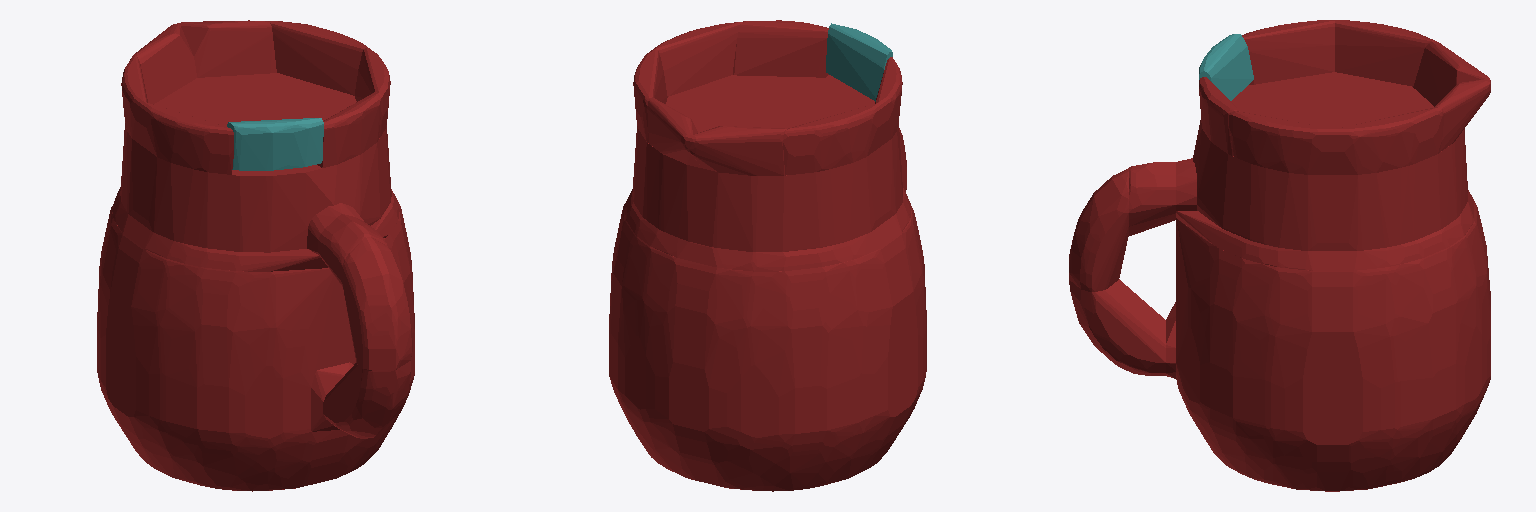
The robot description file, URDF, robot "root":
<robot name="root">
  <link name="bottle_body">
    <inertial>
      <origin xyz="0 0 0" rpy="0 0 0"/>
    </inertial>
    <mass value="1.00E-02"/>
    <visual>
      <origin xyz="0 0 0" rpy="0 0 0"/>
      <geometry>
        <mesh filename="core-bottle-f03f9704001d2055ab8a56962d772d13-coacd_convex_piece_4.obj" scale="1.0000E-01 1.0000E-01 1.0000E-01"/>
      </geometry>
      <material name="">
        <color rgba="6.00E-01 2.00E-01 2.00E-01 1"/>
      </material>
    </visual>
    <collision>
      <origin xyz="0 0 0" rpy="0 0 0"/>
      <geometry>
        <mesh filename="core-bottle-f03f9704001d2055ab8a56962d772d13-coacd_convex_piece_4.obj" scale="1.0000E-01 1.0000E-01 1.0000E-01"/>
      </geometry>
    </collision>
    <visual>
      <origin xyz="0 0 0" rpy="0 0 0"/>
      <geometry>
        <mesh filename="core-bottle-f03f9704001d2055ab8a56962d772d13-coacd_convex_piece_6.obj" scale="1.0000E-01 1.0000E-01 1.0000E-01"/>
      </geometry>
      <material name="">
        <color rgba="6.00E-01 2.00E-01 2.00E-01 1"/>
      </material>
    </visual>
    <collision>
      <origin xyz="0 0 0" rpy="0 0 0"/>
      <geometry>
        <mesh filename="core-bottle-f03f9704001d2055ab8a56962d772d13-coacd_convex_piece_6.obj" scale="1.0000E-01 1.0000E-01 1.0000E-01"/>
      </geometry>
    </collision>
    <visual>
      <origin xyz="0 0 0" rpy="0 0 0"/>
      <geometry>
        <mesh filename="core-bottle-f03f9704001d2055ab8a56962d772d13-coacd_convex_piece_11.obj" scale="1.0000E-01 1.0000E-01 1.0000E-01"/>
      </geometry>
      <material name="">
        <color rgba="6.00E-01 2.00E-01 2.00E-01 1"/>
      </material>
    </visual>
    <collision>
      <origin xyz="0 0 0" rpy="0 0 0"/>
      <geometry>
        <mesh filename="core-bottle-f03f9704001d2055ab8a56962d772d13-coacd_convex_piece_11.obj" scale="1.0000E-01 1.0000E-01 1.0000E-01"/>
      </geometry>
    </collision>
    <visual>
      <origin xyz="0 0 0" rpy="0 0 0"/>
      <geometry>
        <mesh filename="core-bottle-f03f9704001d2055ab8a56962d772d13-coacd_convex_piece_8.obj" scale="1.0000E-01 1.0000E-01 1.0000E-01"/>
      </geometry>
      <material name="">
        <color rgba="6.00E-01 2.00E-01 2.00E-01 1"/>
      </material>
    </visual>
    <collision>
      <origin xyz="0 0 0" rpy="0 0 0"/>
      <geometry>
        <mesh filename="core-bottle-f03f9704001d2055ab8a56962d772d13-coacd_convex_piece_8.obj" scale="1.0000E-01 1.0000E-01 1.0000E-01"/>
      </geometry>
    </collision>
    <visual>
      <origin xyz="0 0 0" rpy="0 0 0"/>
      <geometry>
        <mesh filename="core-bottle-f03f9704001d2055ab8a56962d772d13-coacd_convex_piece_7.obj" scale="1.0000E-01 1.0000E-01 1.0000E-01"/>
      </geometry>
      <material name="">
        <color rgba="6.00E-01 2.00E-01 2.00E-01 1"/>
      </material>
    </visual>
    <collision>
      <origin xyz="0 0 0" rpy="0 0 0"/>
      <geometry>
        <mesh filename="core-bottle-f03f9704001d2055ab8a56962d772d13-coacd_convex_piece_7.obj" scale="1.0000E-01 1.0000E-01 1.0000E-01"/>
      </geometry>
    </collision>
    <visual>
      <origin xyz="0 0 0" rpy="0 0 0"/>
      <geometry>
        <mesh filename="core-bottle-f03f9704001d2055ab8a56962d772d13-coacd_convex_piece_9.obj" scale="1.0000E-01 1.0000E-01 1.0000E-01"/>
      </geometry>
      <material name="">
        <color rgba="6.00E-01 2.00E-01 2.00E-01 1"/>
      </material>
    </visual>
    <collision>
      <origin xyz="0 0 0" rpy="0 0 0"/>
      <geometry>
        <mesh filename="core-bottle-f03f9704001d2055ab8a56962d772d13-coacd_convex_piece_9.obj" scale="1.0000E-01 1.0000E-01 1.0000E-01"/>
      </geometry>
    </collision>
    <visual>
      <origin xyz="0 0 0" rpy="0 0 0"/>
      <geometry>
        <mesh filename="core-bottle-f03f9704001d2055ab8a56962d772d13-coacd_convex_piece_14.obj" scale="1.0000E-01 1.0000E-01 1.0000E-01"/>
      </geometry>
      <material name="">
        <color rgba="6.00E-01 2.00E-01 2.00E-01 1"/>
      </material>
    </visual>
    <collision>
      <origin xyz="0 0 0" rpy="0 0 0"/>
      <geometry>
        <mesh filename="core-bottle-f03f9704001d2055ab8a56962d772d13-coacd_convex_piece_14.obj" scale="1.0000E-01 1.0000E-01 1.0000E-01"/>
      </geometry>
    </collision>
    <visual>
      <origin xyz="0 0 0" rpy="0 0 0"/>
      <geometry>
        <mesh filename="core-bottle-f03f9704001d2055ab8a56962d772d13-coacd_convex_piece_10.obj" scale="1.0000E-01 1.0000E-01 1.0000E-01"/>
      </geometry>
      <material name="">
        <color rgba="6.00E-01 2.00E-01 2.00E-01 1"/>
      </material>
    </visual>
    <collision>
      <origin xyz="0 0 0" rpy="0 0 0"/>
      <geometry>
        <mesh filename="core-bottle-f03f9704001d2055ab8a56962d772d13-coacd_convex_piece_10.obj" scale="1.0000E-01 1.0000E-01 1.0000E-01"/>
      </geometry>
    </collision>
    <visual>
      <origin xyz="0 0 0" rpy="0 0 0"/>
      <geometry>
        <mesh filename="core-bottle-f03f9704001d2055ab8a56962d772d13-coacd_convex_piece_2.obj" scale="1.0000E-01 1.0000E-01 1.0000E-01"/>
      </geometry>
      <material name="">
        <color rgba="6.00E-01 2.00E-01 2.00E-01 1"/>
      </material>
    </visual>
    <collision>
      <origin xyz="0 0 0" rpy="0 0 0"/>
      <geometry>
        <mesh filename="core-bottle-f03f9704001d2055ab8a56962d772d13-coacd_convex_piece_2.obj" scale="1.0000E-01 1.0000E-01 1.0000E-01"/>
      </geometry>
    </collision>
    <visual>
      <origin xyz="0 0 0" rpy="0 0 0"/>
      <geometry>
        <mesh filename="core-bottle-f03f9704001d2055ab8a56962d772d13-coacd_convex_piece_5.obj" scale="1.0000E-01 1.0000E-01 1.0000E-01"/>
      </geometry>
      <material name="">
        <color rgba="6.00E-01 2.00E-01 2.00E-01 1"/>
      </material>
    </visual>
    <collision>
      <origin xyz="0 0 0" rpy="0 0 0"/>
      <geometry>
        <mesh filename="core-bottle-f03f9704001d2055ab8a56962d772d13-coacd_convex_piece_5.obj" scale="1.0000E-01 1.0000E-01 1.0000E-01"/>
      </geometry>
    </collision>
    <visual>
      <origin xyz="0 0 0" rpy="0 0 0"/>
      <geometry>
        <mesh filename="core-bottle-f03f9704001d2055ab8a56962d772d13-coacd_convex_piece_13.obj" scale="1.0000E-01 1.0000E-01 1.0000E-01"/>
      </geometry>
      <material name="">
        <color rgba="6.00E-01 2.00E-01 2.00E-01 1"/>
      </material>
    </visual>
    <collision>
      <origin xyz="0 0 0" rpy="0 0 0"/>
      <geometry>
        <mesh filename="core-bottle-f03f9704001d2055ab8a56962d772d13-coacd_convex_piece_13.obj" scale="1.0000E-01 1.0000E-01 1.0000E-01"/>
      </geometry>
    </collision>
    <visual>
      <origin xyz="0 0 0" rpy="0 0 0"/>
      <geometry>
        <mesh filename="core-bottle-f03f9704001d2055ab8a56962d772d13-coacd_convex_piece_15.obj" scale="1.0000E-01 1.0000E-01 1.0000E-01"/>
      </geometry>
      <material name="">
        <color rgba="6.00E-01 2.00E-01 2.00E-01 1"/>
      </material>
    </visual>
    <collision>
      <origin xyz="0 0 0" rpy="0 0 0"/>
      <geometry>
        <mesh filename="core-bottle-f03f9704001d2055ab8a56962d772d13-coacd_convex_piece_15.obj" scale="1.0000E-01 1.0000E-01 1.0000E-01"/>
      </geometry>
    </collision>
    <visual>
      <origin xyz="0 0 0" rpy="0 0 0"/>
      <geometry>
        <mesh filename="core-bottle-f03f9704001d2055ab8a56962d772d13-coacd_convex_piece_0.obj" scale="1.0000E-01 1.0000E-01 1.0000E-01"/>
      </geometry>
      <material name="">
        <color rgba="6.00E-01 2.00E-01 2.00E-01 1"/>
      </material>
    </visual>
    <collision>
      <origin xyz="0 0 0" rpy="0 0 0"/>
      <geometry>
        <mesh filename="core-bottle-f03f9704001d2055ab8a56962d772d13-coacd_convex_piece_0.obj" scale="1.0000E-01 1.0000E-01 1.0000E-01"/>
      </geometry>
    </collision>
    <visual>
      <origin xyz="0 0 0" rpy="0 0 0"/>
      <geometry>
        <mesh filename="core-bottle-f03f9704001d2055ab8a56962d772d13-coacd_convex_piece_1.obj" scale="1.0000E-01 1.0000E-01 1.0000E-01"/>
      </geometry>
      <material name="">
        <color rgba="6.00E-01 2.00E-01 2.00E-01 1"/>
      </material>
    </visual>
    <collision>
      <origin xyz="0 0 0" rpy="0 0 0"/>
      <geometry>
        <mesh filename="core-bottle-f03f9704001d2055ab8a56962d772d13-coacd_convex_piece_1.obj" scale="1.0000E-01 1.0000E-01 1.0000E-01"/>
      </geometry>
    </collision>
    <visual>
      <origin xyz="0 0 0" rpy="0 0 0"/>
      <geometry>
        <mesh filename="core-bottle-f03f9704001d2055ab8a56962d772d13-coacd_convex_piece_3.obj" scale="1.0000E-01 1.0000E-01 1.0000E-01"/>
      </geometry>
      <material name="">
        <color rgba="6.00E-01 2.00E-01 2.00E-01 1"/>
      </material>
    </visual>
    <collision>
      <origin xyz="0 0 0" rpy="0 0 0"/>
      <geometry>
        <mesh filename="core-bottle-f03f9704001d2055ab8a56962d772d13-coacd_convex_piece_3.obj" scale="1.0000E-01 1.0000E-01 1.0000E-01"/>
      </geometry>
    </collision>
  </link>
  <link name="bottle_cap">
    <origin xyz="0 0 0.002" rpy="0 0 0"/>
    <mass value="1.00E-02"/>
    <visual>
      <origin xyz="0 0 0.002" rpy="0 0 0"/>
      <geometry>
        <mesh filename="core-bottle-f03f9704001d2055ab8a56962d772d13-coacd_convex_piece_12.obj" scale="1.0000E-01 1.0000E-01 1.0000E-01"/>
      </geometry>
      <material name="">
        <color rgba="3.00E-01 6.00E-01 6.00E-01 1"/>
      </material>
    </visual>
    <collision>
      <origin xyz="0 0 0.002" rpy="0 0 0"/>
      <geometry>
        <mesh filename="core-bottle-f03f9704001d2055ab8a56962d772d13-coacd_convex_piece_12.obj" scale="1.0000E-01 1.0000E-01 1.0000E-01"/>
      </geometry>
    </collision>
  </link>
  <joint name="bottle_cap_joint" type="revolute">
    <origin xyz="0 0 0" rpy="0 0 0"/>
    <parent link="bottle_body"/>
    <child link="bottle_cap"/>
    <axis xyz="0 0 1"/>
    <limit lower="0.00" upper="6.28"/>
    <dynamics damping="0.05"/>
  </joint>
</robot>

--- Render facts (derived) ---
The picture shows the robot from 3 angles, left to right: view 1: azimuth 30°, elevation 25°; view 2: azimuth 150°, elevation 25°; view 3: azimuth 270°, elevation 25°; orthographic projection.
Model root with 2 links and 1 joints (1 revolute), rooted at bottle_body, posed every joint at zero.
Visible links, largest first — view 1: bottle_body, bottle_cap; view 2: bottle_body, bottle_cap; view 3: bottle_body, bottle_cap.
Link boxes in pixels (x1=…): bottle_body: x1=97, y1=20, x2=414, y2=491; bottle_cap: x1=227, y1=118, x2=323, y2=170; bottle_body: x1=609, y1=20, x2=926, y2=491; bottle_cap: x1=826, y1=23, x2=892, y2=101; bottle_body: x1=1069, y1=20, x2=1490, y2=491; bottle_cap: x1=1199, y1=34, x2=1253, y2=100.
Bounding box of the posed robot: 0.106 × 0.1435 × 0.1392 m (x, y, z).
Meshes: 16 distinct files referenced, 16 mesh visuals loaded (16 OBJ).